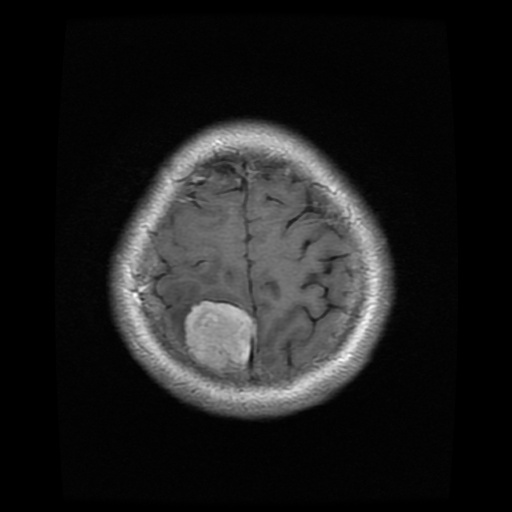meningioma: (183, 299, 257, 371)
